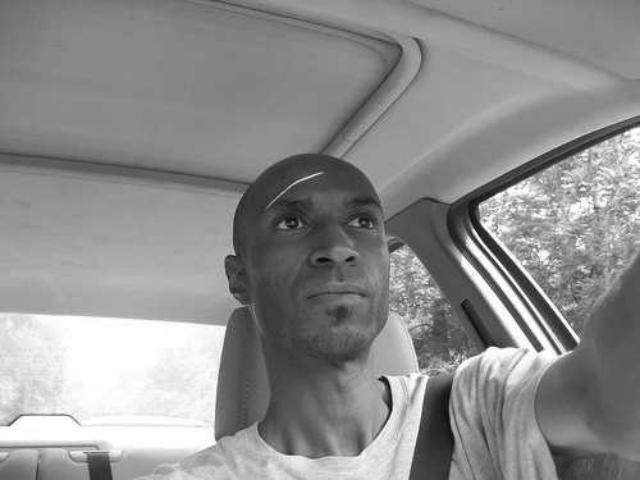SafeDriving: (263, 201, 316, 237), (338, 200, 386, 236)
Seatbelt: (406, 370, 458, 480)
